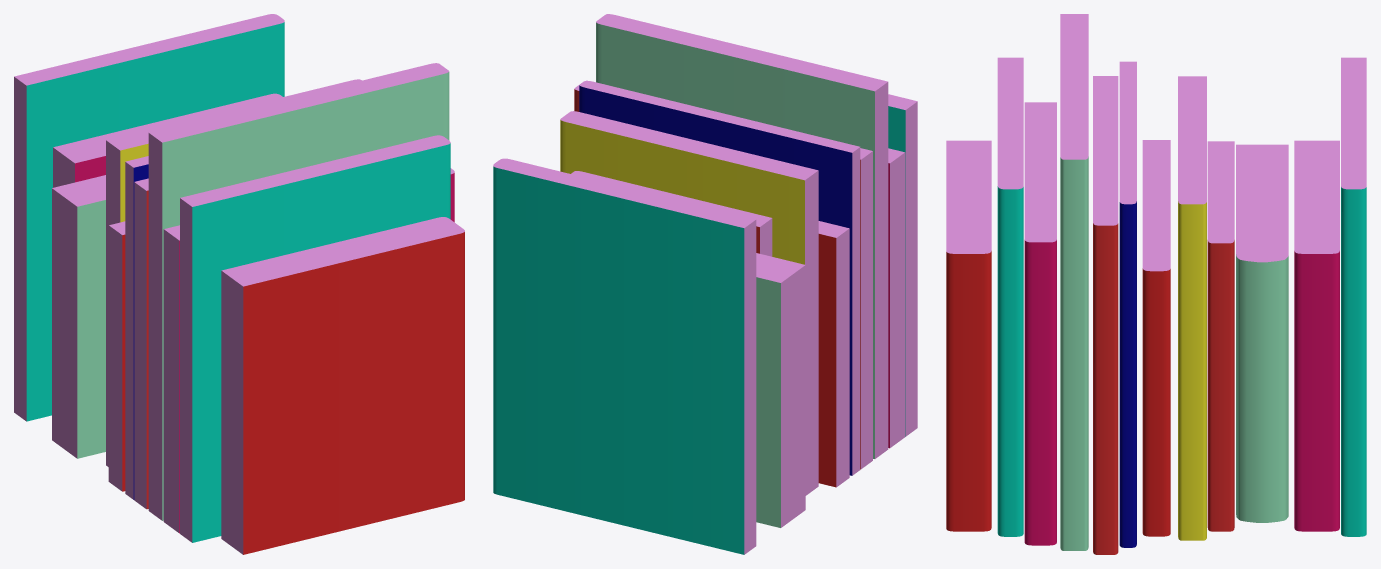
Rendered from QD_3BR_LR_TV_Cabinet_Decor_05_UN.FBX.
3 views of the same model, side by side, from view 1: azimuth 30°, elevation 25°; view 2: azimuth 150°, elevation 25°; view 3: azimuth 270°, elevation 25° (orthographic). The views are drawn at different scales.
Parts seen in each view (by area): view 1: Book_10, Book_09, Book_01, Book_03, Book_04, Book_08, Book_12, Book_06, Book_05, Book_07, Book_02; view 2: Book_01, Book_03, Book_05, Book_07, Book_04, Book_06, Book_08, Book_09, Book_12, Book_11; view 3: Book_04, Book_02, Book_10, Book_03, Book_08, Book_05, Book_09, Book_01, Book_12, Book_06, Book_11, Book_07.
Boxes of the visible parts, <box> form: Book_10: <box>221,217,464,554</box>; Book_09: <box>180,135,450,542</box>; Book_01: <box>14,14,284,421</box>; Book_03: <box>148,63,449,520</box>; Book_04: <box>52,175,105,458</box>; Book_08: <box>163,168,454,533</box>; Book_12: <box>134,178,148,509</box>; Book_06: <box>108,221,125,491</box>; Book_05: <box>106,79,361,466</box>; Book_07: <box>125,156,148,499</box>; Book_02: <box>53,93,282,187</box>; Book_01: <box>493,158,756,554</box>; Book_03: <box>596,14,888,458</box>; Book_05: <box>560,111,818,495</box>; Book_07: <box>579,80,860,475</box>; Book_04: <box>756,253,805,527</box>; Book_06: <box>818,221,849,487</box>; Book_08: <box>888,148,905,448</box>; Book_09: <box>888,94,917,436</box>; Book_12: <box>574,85,872,469</box>; Book_11: <box>571,171,772,256</box>; Book_04: <box>1236,144,1288,522</box>; Book_02: <box>1294,140,1339,531</box>; Book_10: <box>946,140,991,531</box>; Book_03: <box>1060,14,1088,550</box>; Book_08: <box>1024,102,1056,545</box>; Book_05: <box>1178,76,1206,540</box>; Book_09: <box>997,57,1023,536</box>; Book_01: <box>1341,57,1366,536</box>; Book_12: <box>1093,76,1118,554</box>; Book_06: <box>1142,140,1170,536</box>; Book_11: <box>1207,141,1234,531</box>; Book_07: <box>1119,61,1136,547</box>.
Bounding box in the file's own units: 0.2632 × 0.321 × 0.3126.
